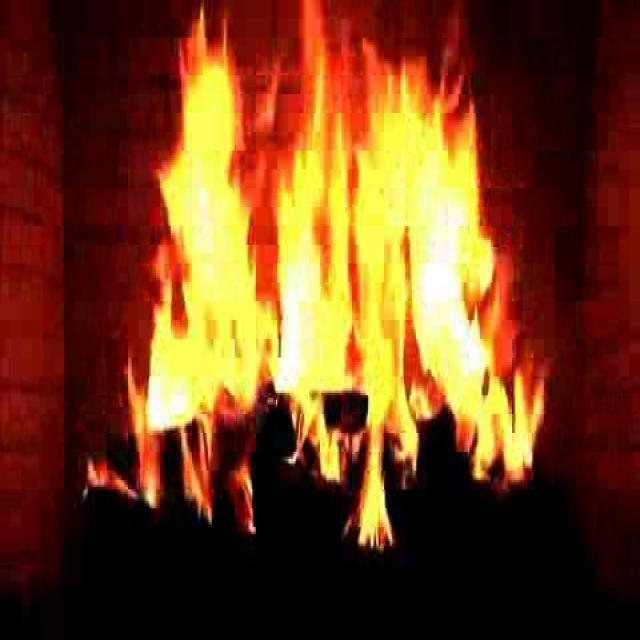Smoke: (138, 33, 530, 518)
